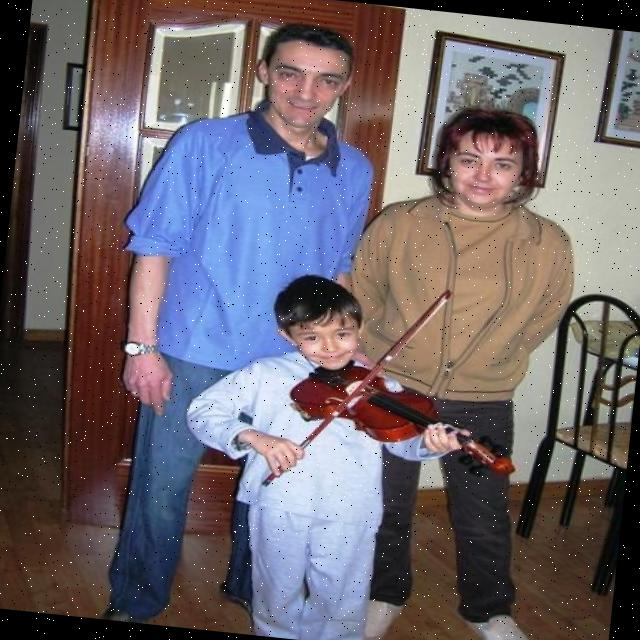violin: (284, 355, 527, 478)
